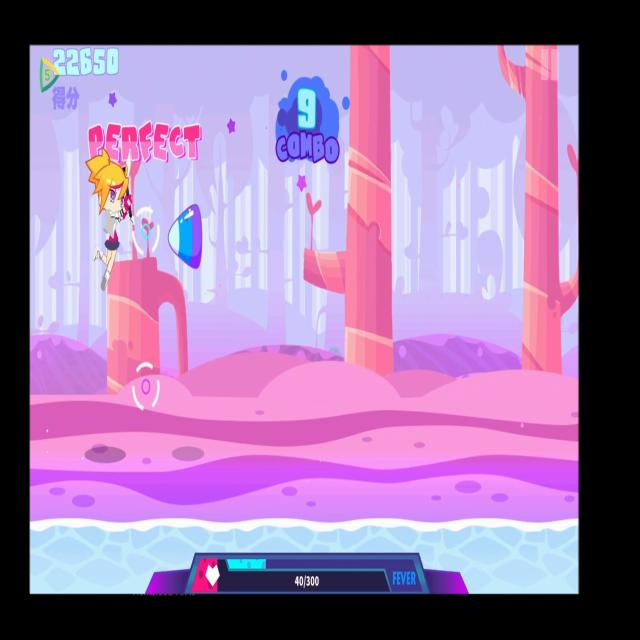Sky-Monster---Blue-Bullet: (166, 200, 208, 274)
